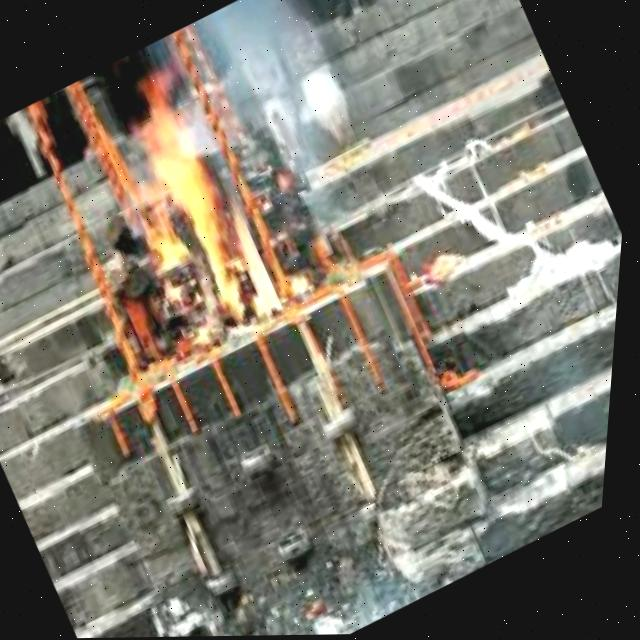Fire: (82, 86, 309, 360)
